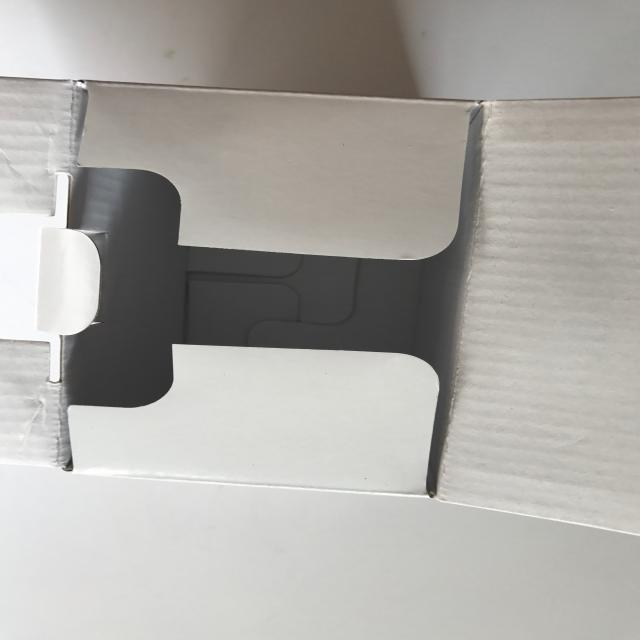cardboard: (0, 66, 640, 543)
